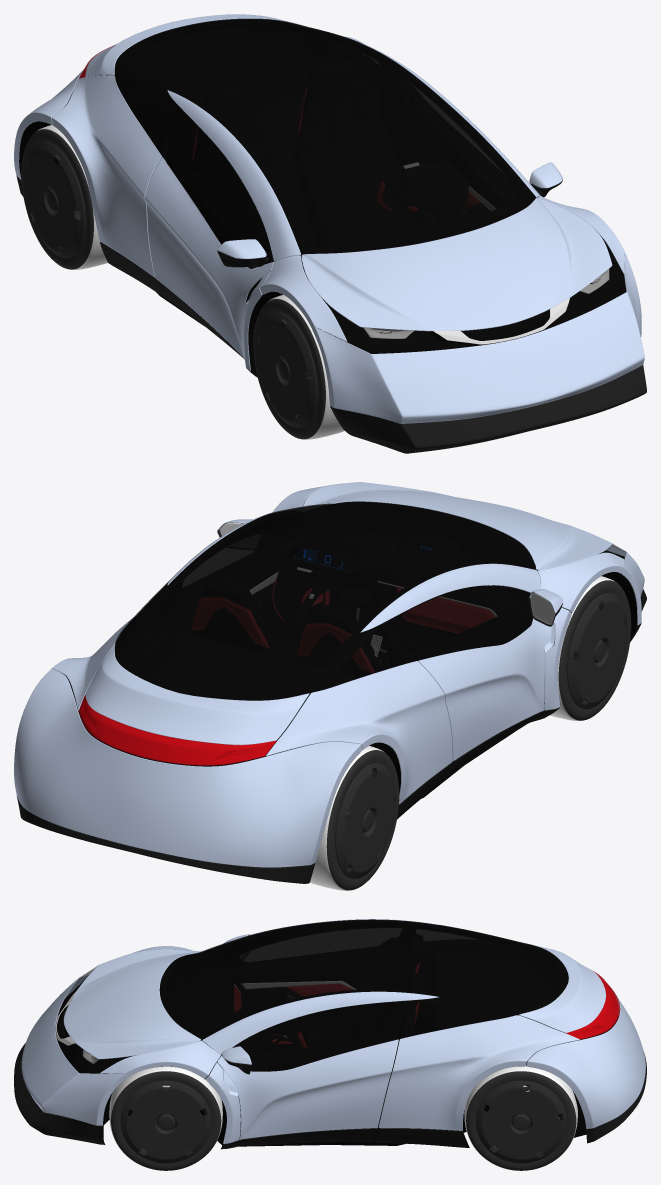
The model's file is AR-Code-1678083479767.glb.
3 renders of one model, top to bottom at view 1: azimuth 30°, elevation 25°; view 2: azimuth 150°, elevation 25°; view 3: azimuth 270°, elevation 25°, orthographic. The views are drawn at different scales.
Parts seen in each view (by area): view 1: Object_372; view 2: Object_372; view 3: Object_372.
Part boxes in pixels (<box>): Object_372: <box>14,14,646,453</box>; Object_372: <box>14,482,646,890</box>; Object_372: <box>14,919,646,1170</box>.
Size of the model in its own units: 0.2061 by 0.1262 by 0.4358.
